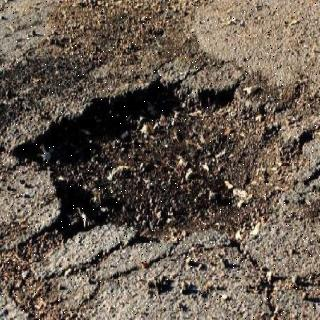pothole: (9, 75, 312, 261)
